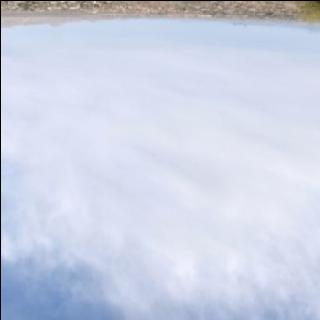Nimbostratus: (0, 19, 320, 320)
